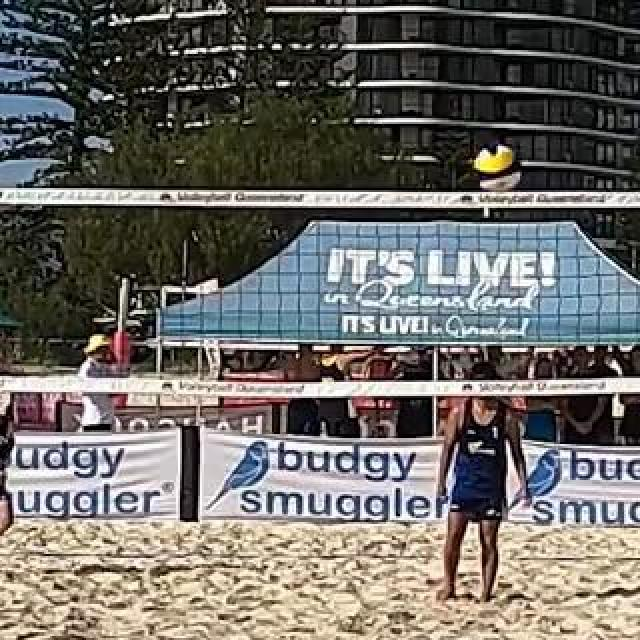volleyball: (476, 142, 520, 192)
